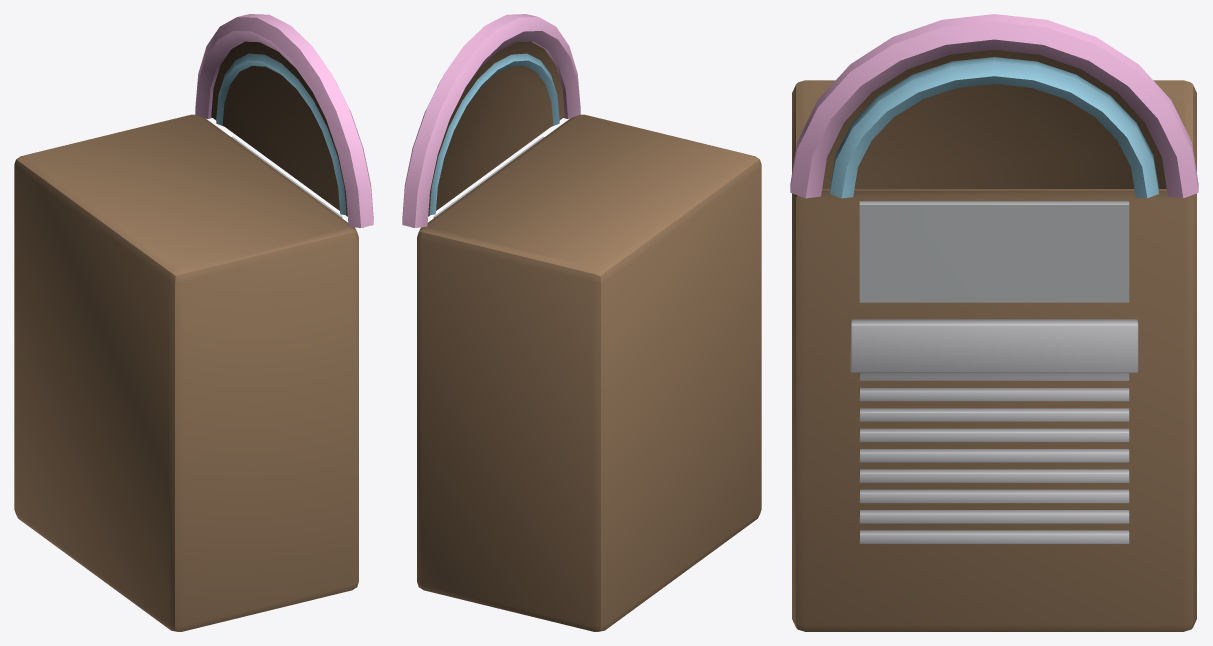
The model's file is jukebox.glb.
The picture shows the model from 3 angles, left to right: view 1: azimuth 30°, elevation 25°; view 2: azimuth 150°, elevation 25°; view 3: azimuth 270°, elevation 25°; orthographic projection. The views are drawn at different scales.
Visible parts, largest first — view 1: boat_oak, boat_jukeglow, boat_jukeglow2; view 2: boat_oak, boat_jukeglow, boat_jukeglow2; view 3: boat_oak, boat_chrome2, boat_glassc, boat_jukeglow, boat_jukeglow2.
Boxes of the visible parts, x1,y1,x2,y2 form: boat_oak: (14, 41, 358, 631); boat_jukeglow: (195, 14, 373, 227); boat_jukeglow2: (216, 53, 346, 214); boat_oak: (417, 41, 761, 631); boat_jukeglow: (402, 14, 580, 227); boat_jukeglow2: (429, 53, 559, 214); boat_oak: (792, 50, 1196, 631); boat_chrome2: (850, 319, 1138, 543); boat_glassc: (859, 201, 1129, 302); boat_jukeglow: (790, 14, 1198, 198); boat_jukeglow2: (830, 57, 1158, 198).
Size of the model in its own units: 0.65 by 1.52 by 0.9086.
